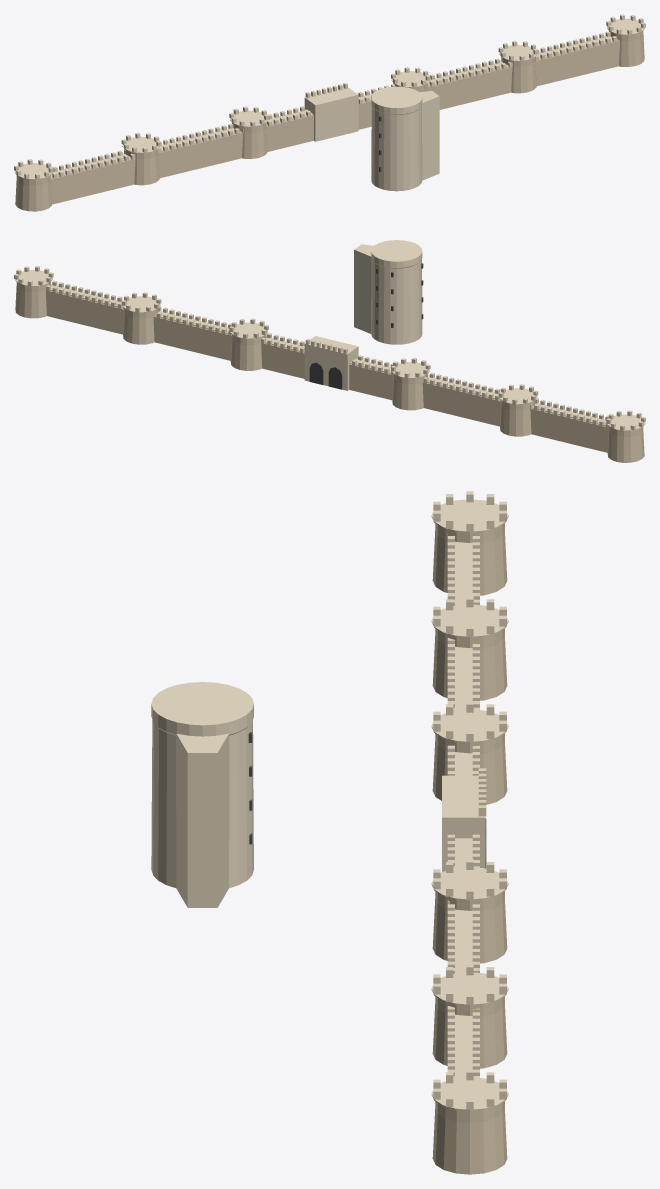
Rendered from baku_old_city.glb.
3 views of the same model, one above another, from view 1: azimuth 30°, elevation 25°; view 2: azimuth 150°, elevation 25°; view 3: azimuth 270°, elevation 25° (orthographic). The views are drawn at different scales.
Visible parts, largest first — view 1: walls, maiden_tower; view 2: walls, maiden_tower; view 3: walls, maiden_tower.
Boxes of the visible parts, x1,y1,x2,y2 form: walls: (14,14,645,211); maiden_tower: (371,86,439,191); walls: (14,266,645,462); maiden_tower: (354,240,423,344); walls: (431,491,508,1174); maiden_tower: (151,682,253,907).
Bounding box in the file's own units: 232 × 29.5 × 57.45.
